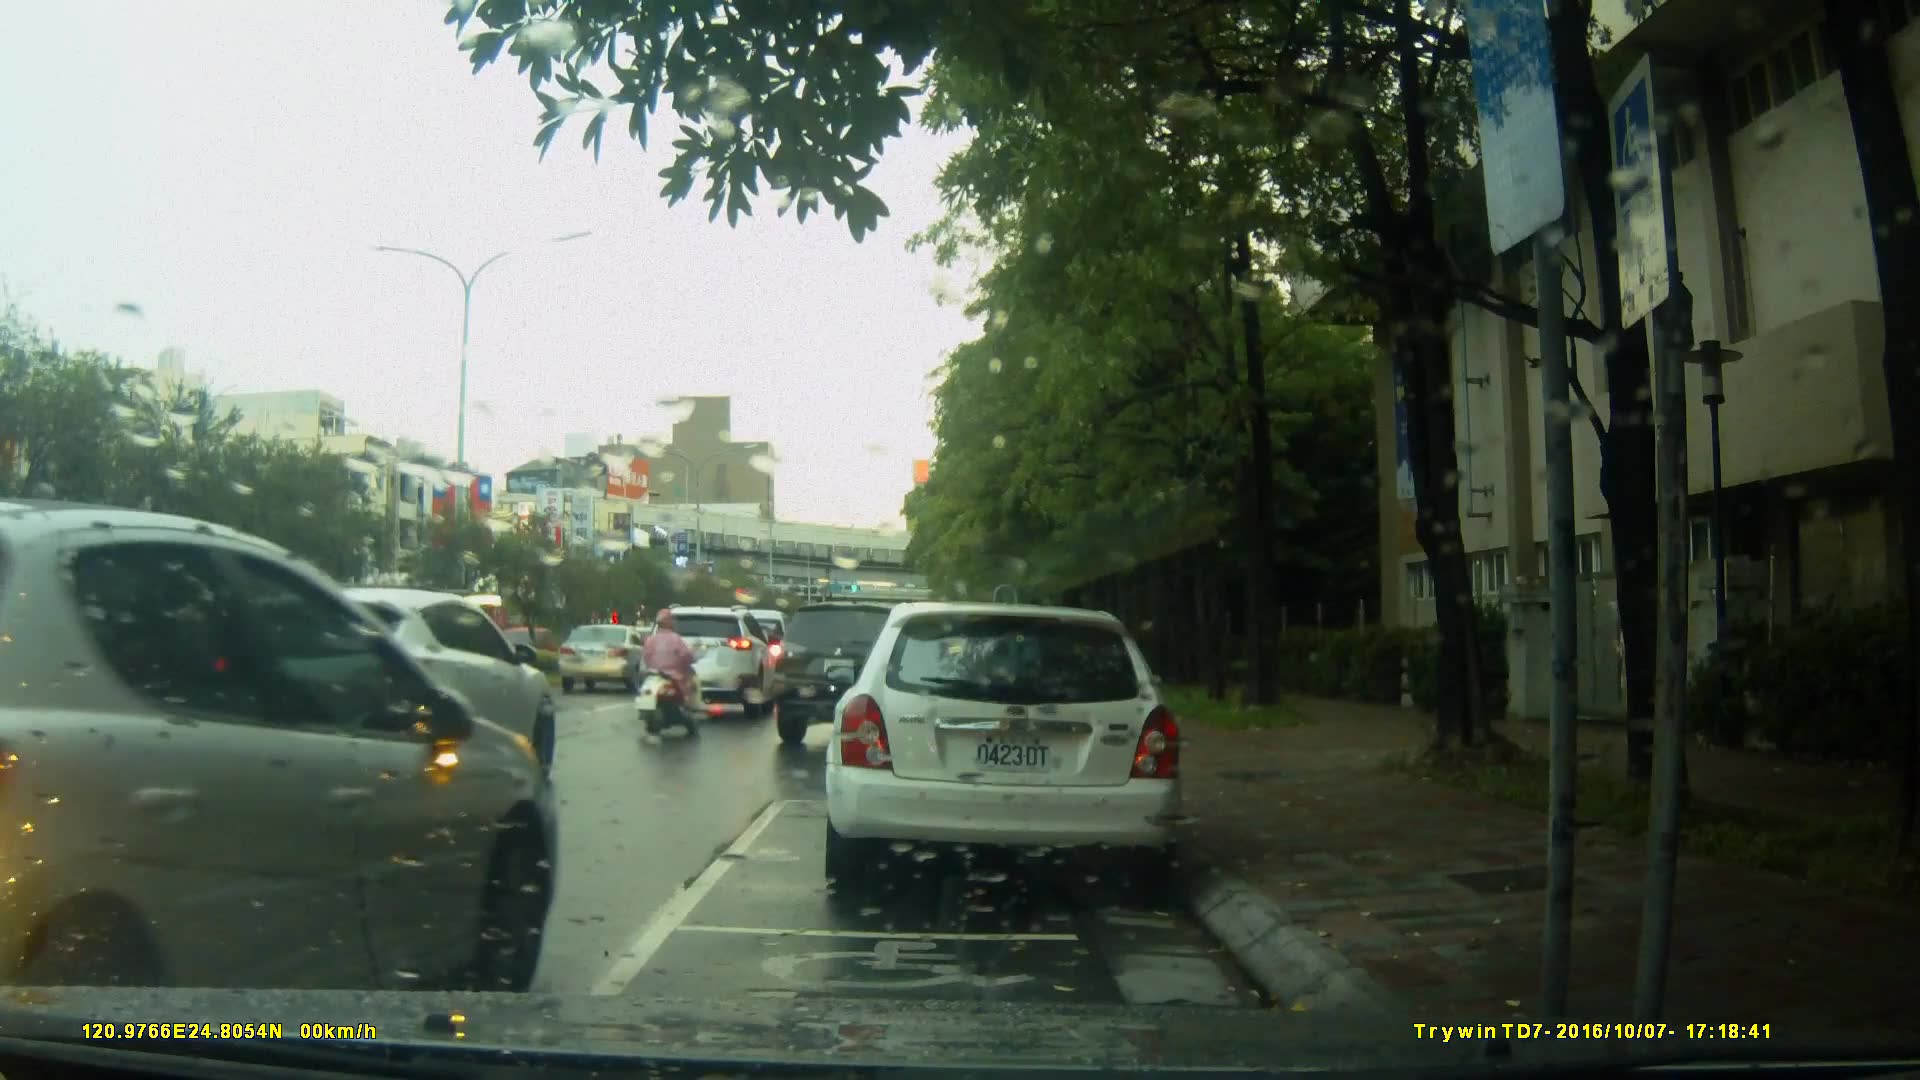rider: (637, 605, 705, 745)
vehicle: (1, 496, 563, 991), (820, 602, 1188, 898), (203, 582, 558, 801), (766, 600, 989, 754), (640, 606, 782, 721), (553, 621, 657, 695)
